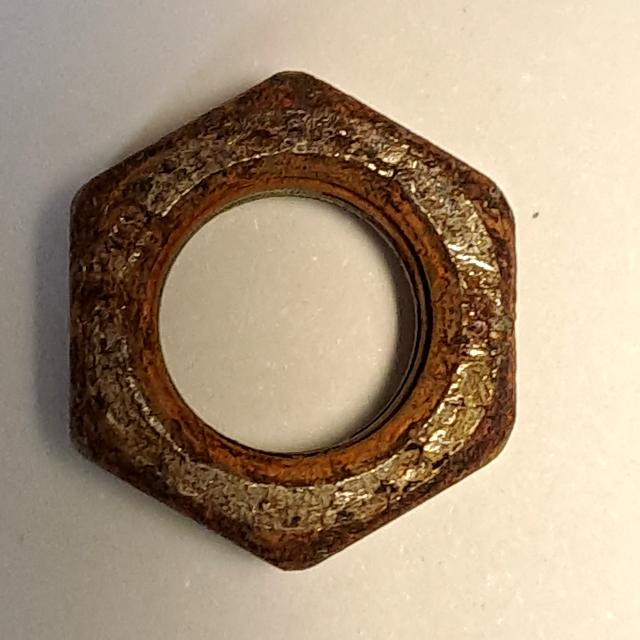Rust: (53, 51, 539, 582)
